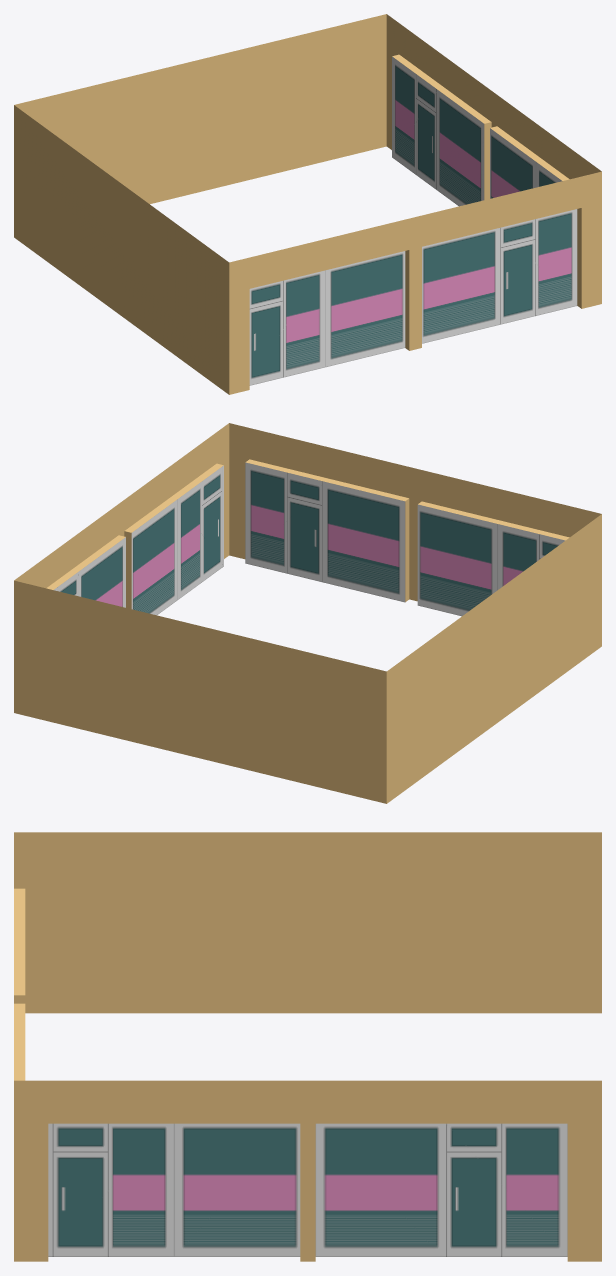
Rendered from Town_Bld-Med_BaseA-Corner.FBX.
3 views of the same model, one above another, from view 1: azimuth 30°, elevation 25°; view 2: azimuth 150°, elevation 25°; view 3: azimuth 270°, elevation 25° (orthographic). The views are drawn at different scales.
Visible parts, largest first — view 1: Town_Bld-Med_BaseA-Corner; view 2: Town_Bld-Med_BaseA-Corner; view 3: Town_Bld-Med_BaseA-Corner.
Boxes of the visible parts, <box> form: Town_Bld-Med_BaseA-Corner: <box>14,14,601,394</box>; Town_Bld-Med_BaseA-Corner: <box>14,423,601,803</box>; Town_Bld-Med_BaseA-Corner: <box>14,832,601,1261</box>.
Bounding box in the file's own units: 600 × 204 × 600.
